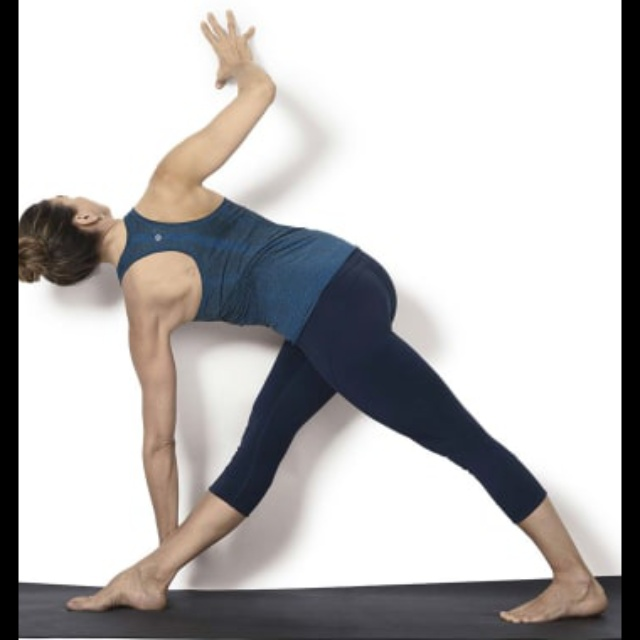Triangle_Pose: (21, 10, 611, 623)
